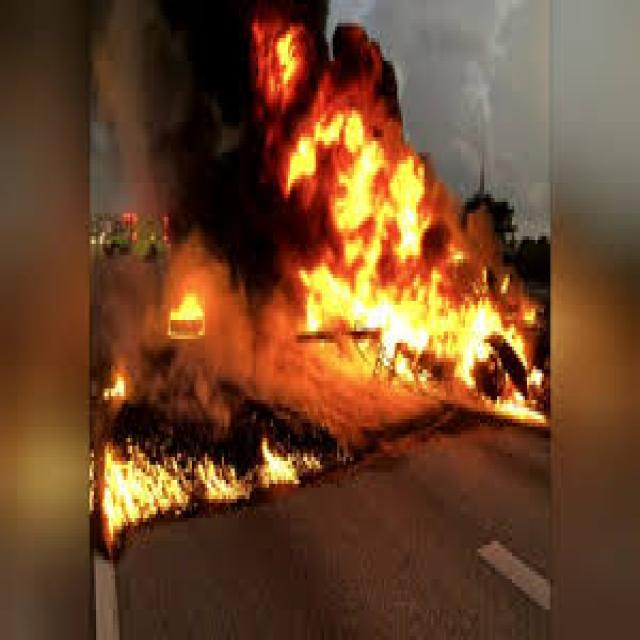Fire: (96, 441, 191, 547), (187, 449, 249, 522), (459, 314, 532, 374), (254, 438, 317, 501), (357, 303, 430, 352), (168, 296, 206, 344), (499, 394, 548, 427), (397, 208, 425, 252), (304, 306, 323, 336), (109, 375, 129, 398)
Smoke: (89, 0, 328, 263), (329, 114, 434, 288), (422, 174, 502, 279), (328, 20, 407, 108)
